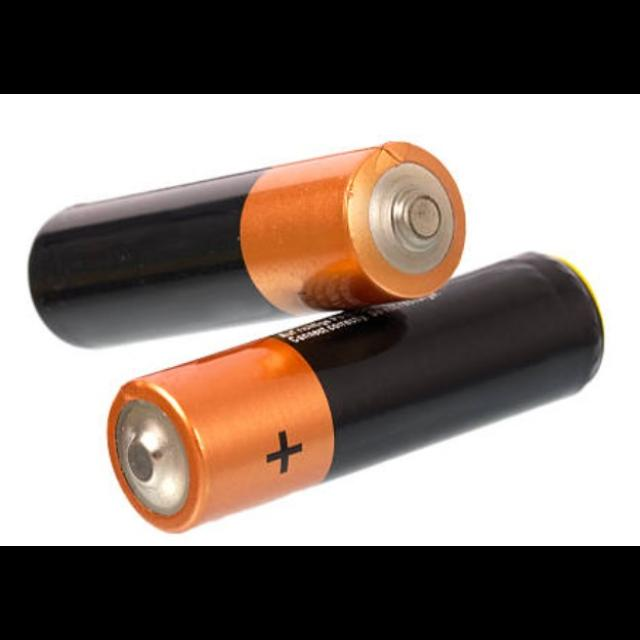Battery: (109, 253, 605, 533), (28, 142, 466, 346)
